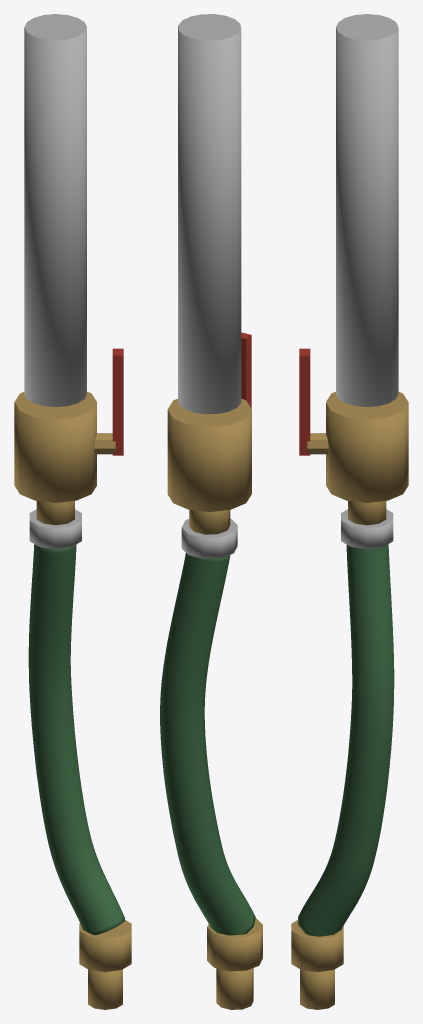
Rendered from barrel_pump.obj.
3 views of the same model, side by side, from view 1: azimuth 90°, elevation 25°; view 2: azimuth 150°, elevation 25°; view 3: azimuth 270°, elevation 25° (orthographic).
Parts seen in each view (by area): view 1: pipe4, hose, valve_body, spigot_nut, hose_collar, spigot, valve_lever, hose_barb, valve_stem; view 2: pipe4, hose, valve_body, spigot_nut, hose_collar, spigot, hose_barb, valve_lever; view 3: pipe4, hose, valve_body, spigot_nut, hose_collar, spigot, valve_lever, hose_barb, valve_stem.
Part boxes in pixels (left/top/right/bottom): pipe4: left=24, top=14, right=86, bottom=406; hose: left=28, top=544, right=124, bottom=935; valve_body: left=14, top=391, right=96, bottom=502; spigot_nut: left=79, top=920, right=131, bottom=972; hose_collar: left=29, top=509, right=81, bottom=549; spigot: left=88, top=969, right=122, bottom=1009; valve_lever: left=112, top=348, right=123, bottom=455; hose_barb: left=36, top=501, right=74, bottom=525; valve_stem: left=94, top=433, right=115, bottom=454; pipe4: left=178, top=14, right=241, bottom=414; hose: left=160, top=553, right=255, bottom=935; valve_body: left=167, top=398, right=251, bottom=511; spigot_nut: left=207, top=918, right=262, bottom=971; hose_collar: left=181, top=518, right=237, bottom=558; spigot: left=216, top=968, right=253, bottom=1009; hose_barb: left=189, top=510, right=230, bottom=534; valve_lever: left=241, top=332, right=251, bottom=408; pipe4: left=336, top=14, right=398, bottom=406; hose: left=298, top=544, right=394, bottom=936; valve_body: left=326, top=391, right=408, bottom=502; spigot_nut: left=291, top=920, right=343, bottom=972; hose_collar: left=341, top=509, right=393, bottom=549; spigot: left=300, top=969, right=334, bottom=1009; valve_lever: left=299, top=348, right=310, bottom=455; hose_barb: left=348, top=501, right=386, bottom=525; valve_stem: left=307, top=433, right=328, bottom=454.
Size of the model in its own units: 0.0998 by 1.17 by 0.1275.
4 materials, 4 textured.
